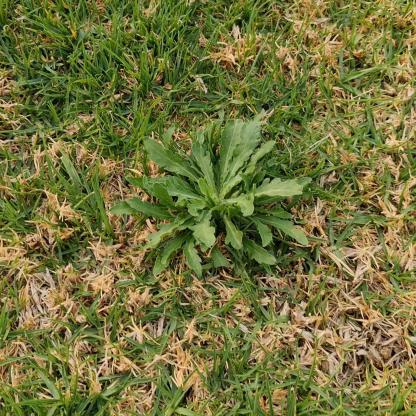Weeds: (110, 112, 311, 280)
